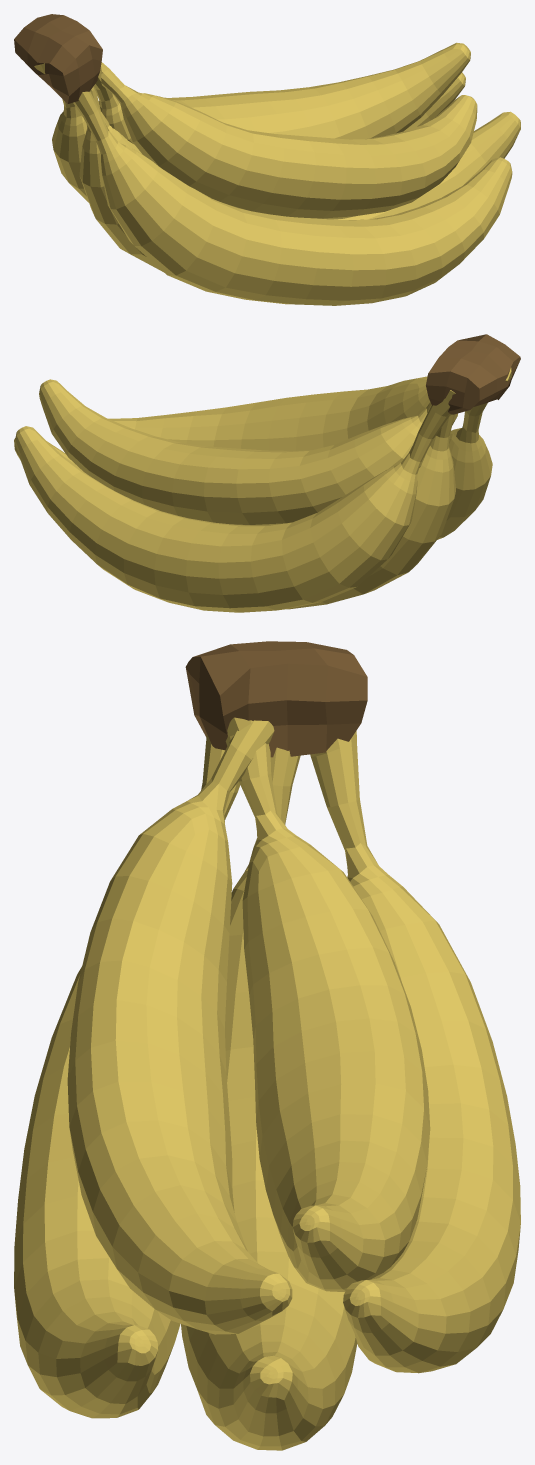
File: banane.fbx
The picture shows the model from 3 angles, top to bottom: view 1: azimuth 30°, elevation 25°; view 2: azimuth 150°, elevation 25°; view 3: azimuth 270°, elevation 25°; orthographic projection. The views are drawn at different scales.
Visible parts, largest first — view 1: Casco di banane; view 2: Casco di banane; view 3: Casco di banane.
Part boxes in pixels (x1=…): Casco di banane: x1=14, y1=14, x2=520, y2=305; Casco di banane: x1=14, y1=334, x2=520, y2=612; Casco di banane: x1=14, y1=641, x2=520, y2=1450.
Bounding box in the file's own units: 40.68 × 24.72 × 21.06.
